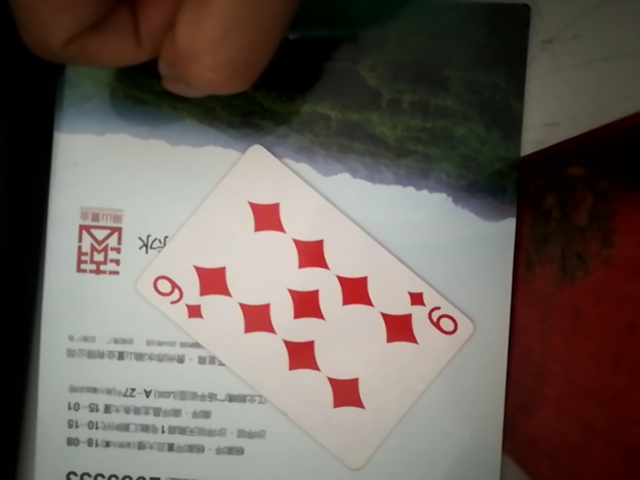fk 9: (127, 138, 478, 462)
